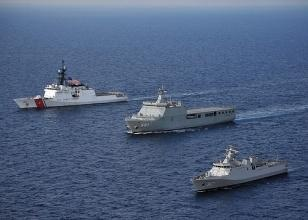warship: (10, 62, 136, 109), (126, 90, 244, 134), (190, 147, 289, 196)
